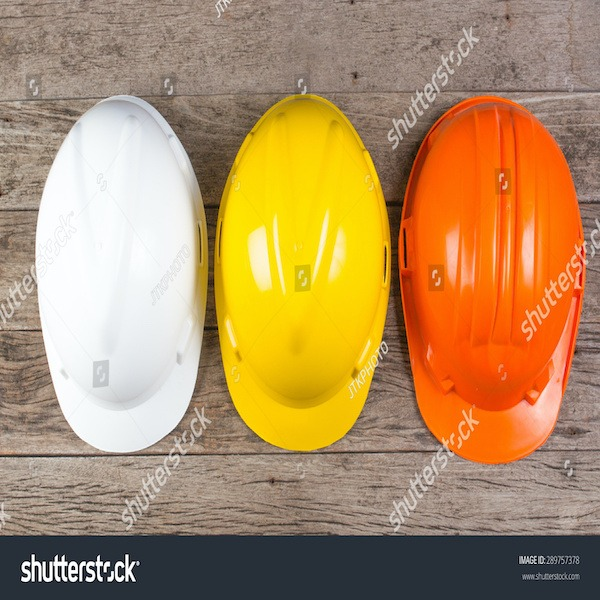helmet: (400, 98, 586, 464), (216, 86, 392, 451), (34, 90, 208, 443)
